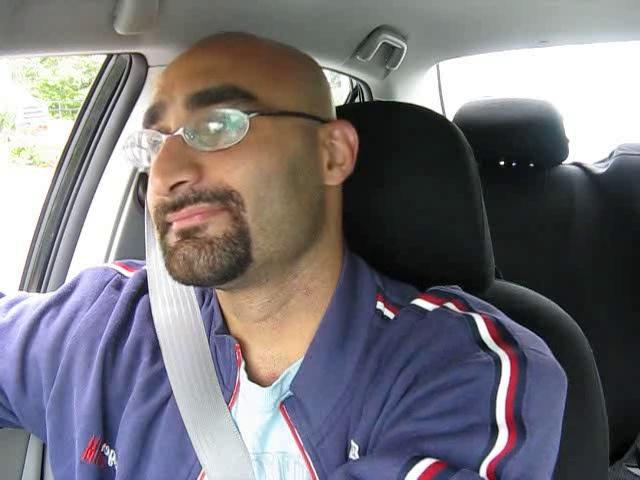no_yawn: (153, 195, 235, 233)
open_eyeR: (189, 100, 269, 151)
